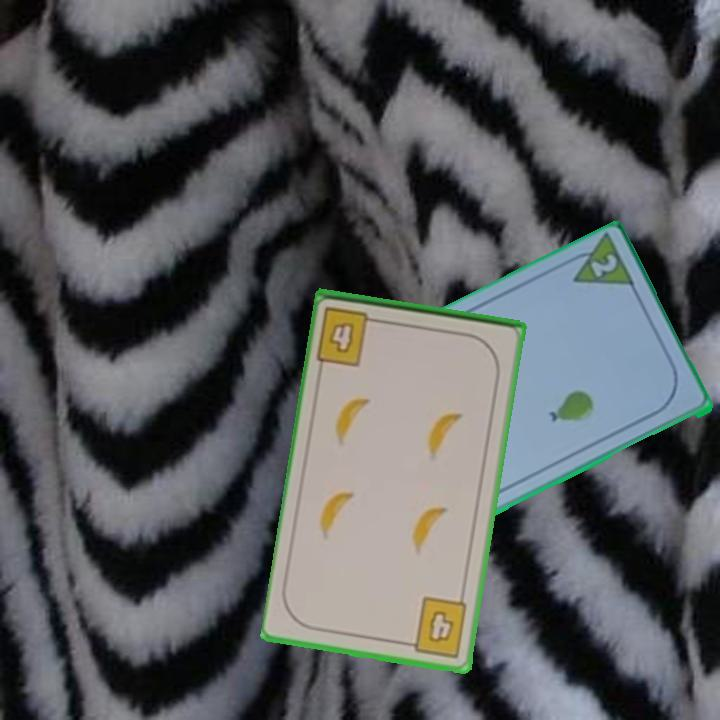2p: (586, 251, 620, 281)
4b: (313, 303, 386, 369), (401, 593, 470, 660)
